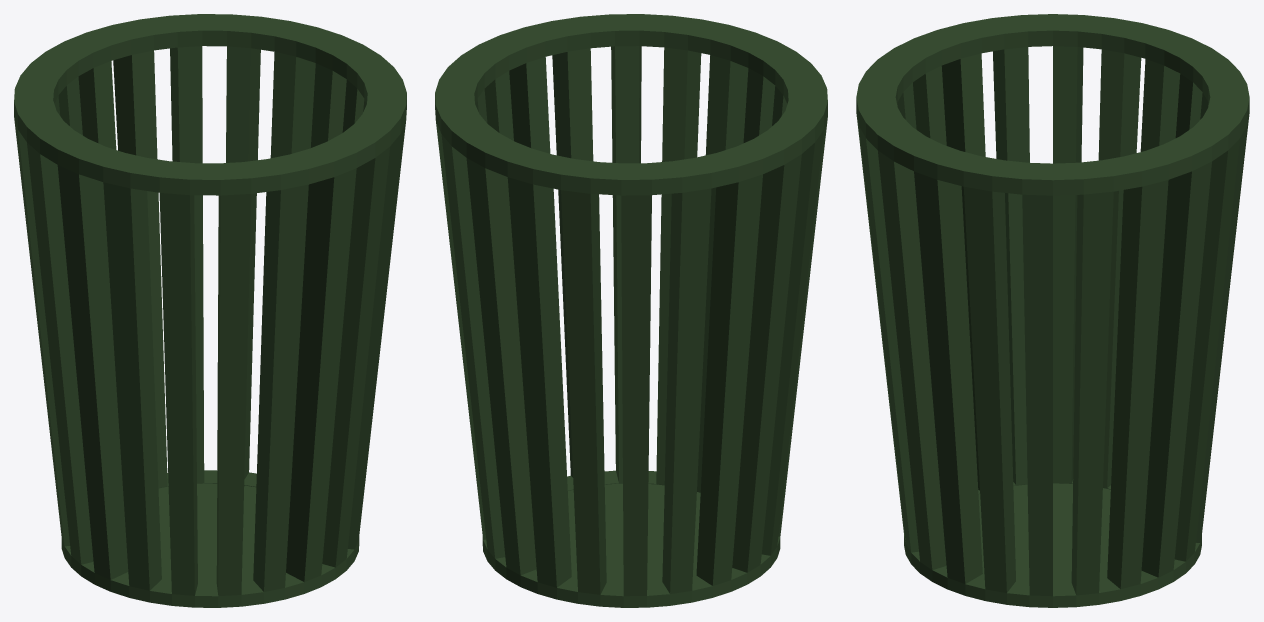
Rendered from eimer.fbx.
3 views of the same model, side by side, from view 1: azimuth 30°, elevation 25°; view 2: azimuth 150°, elevation 25°; view 3: azimuth 270°, elevation 25° (orthographic).
Visible parts, largest first — view 1: pCylinder2; view 2: pCylinder2; view 3: pCylinder2.
Part boxes in pixels (<box>): pCylinder2: <box>14,14,406,607</box>; pCylinder2: <box>435,14,827,607</box>; pCylinder2: <box>856,14,1249,607</box>.
Bounding box in the file's own units: 2 × 2.51 × 2.
